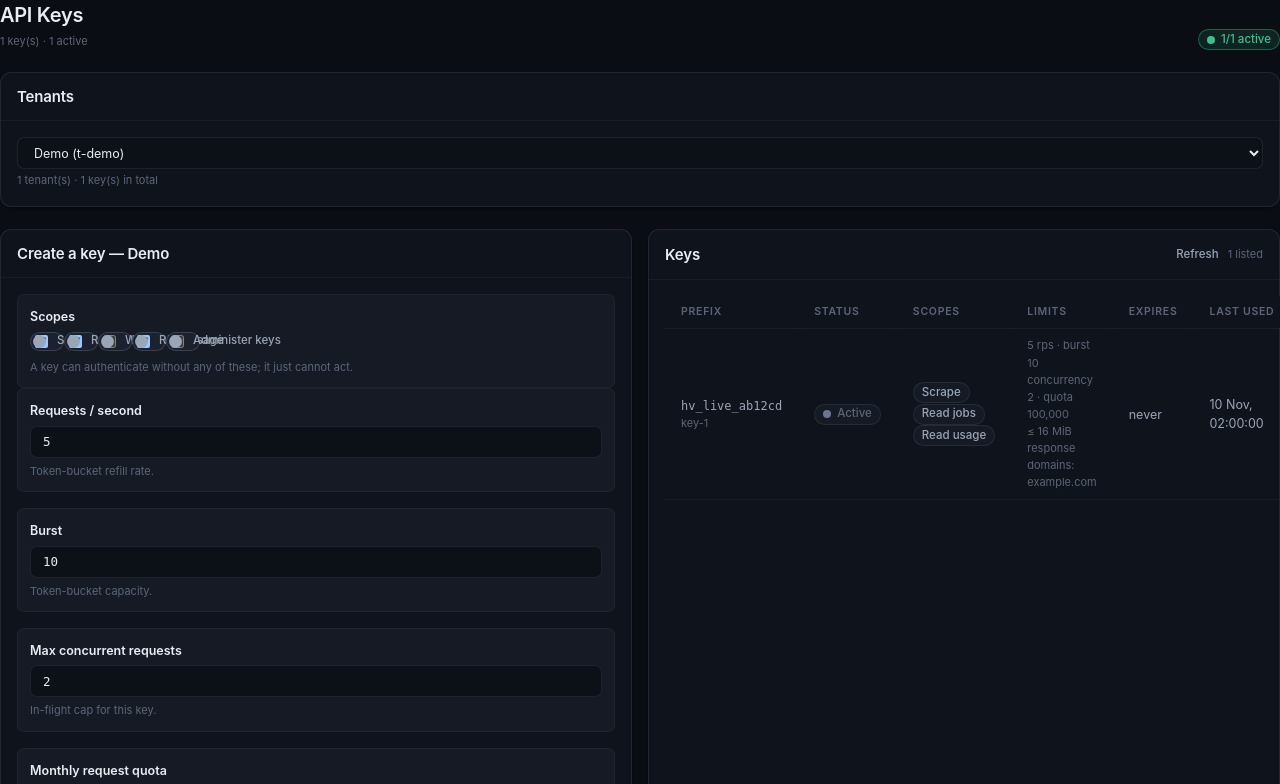
Scenario: ApiKeys page › creates a key with the scopes and limits the form collected
Check: the text "hv_live_ab12cd" is shown, box [681,399,782,413]
Click the checkbox labelled "Write jobs" at (110, 341), box [103,335,116,348]
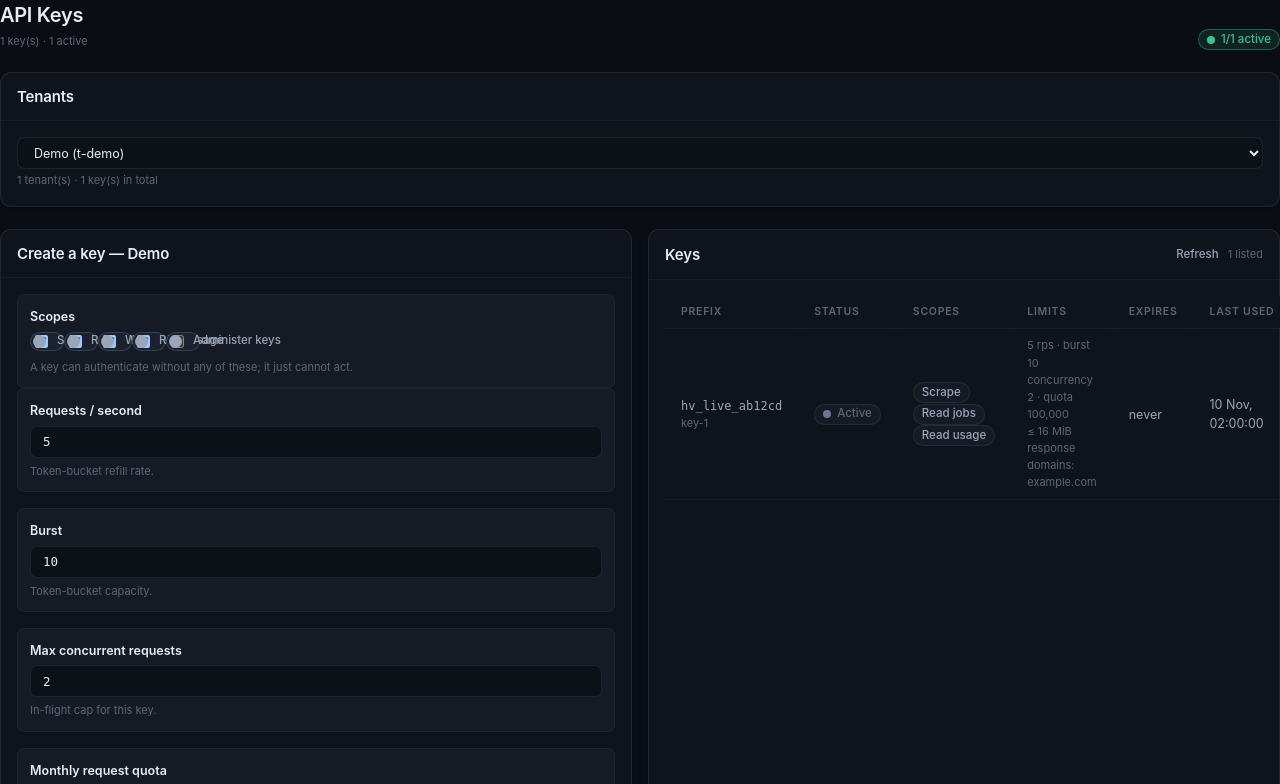
Click the checkbox labelled "Read usage" at (144, 341), box [137,335,150,348]
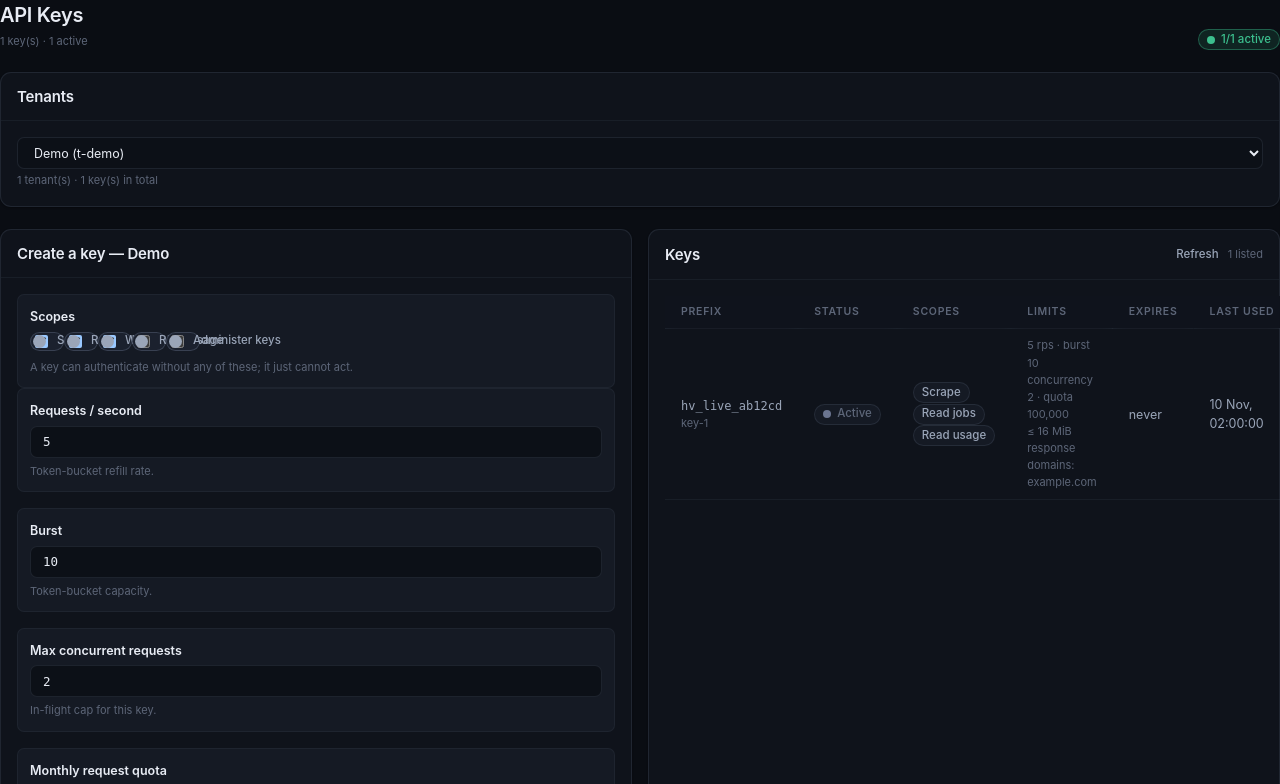
Replace the text in the field below "Requests / second" with "12.5" at (316, 442), box [30,426,602,458]
(page scrolled)
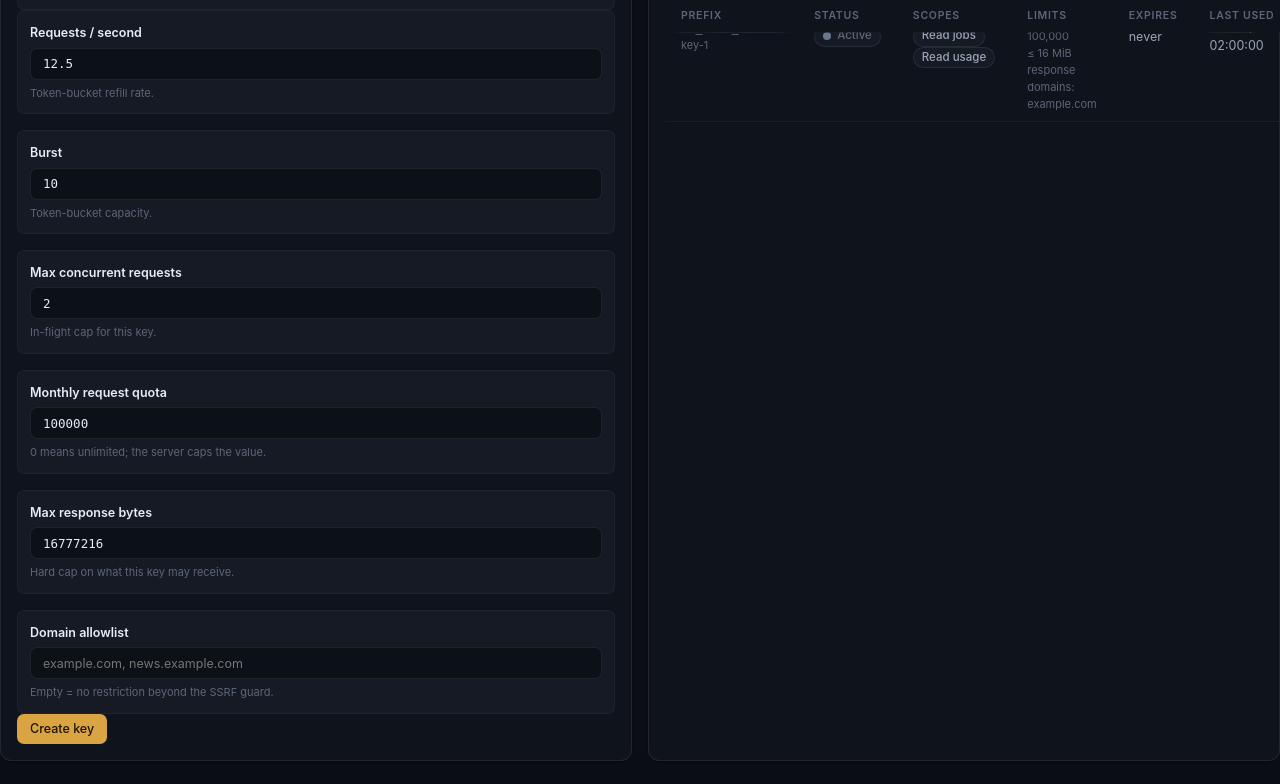
Click the button "Create key" at (62, 728), box [17,714,107,744]
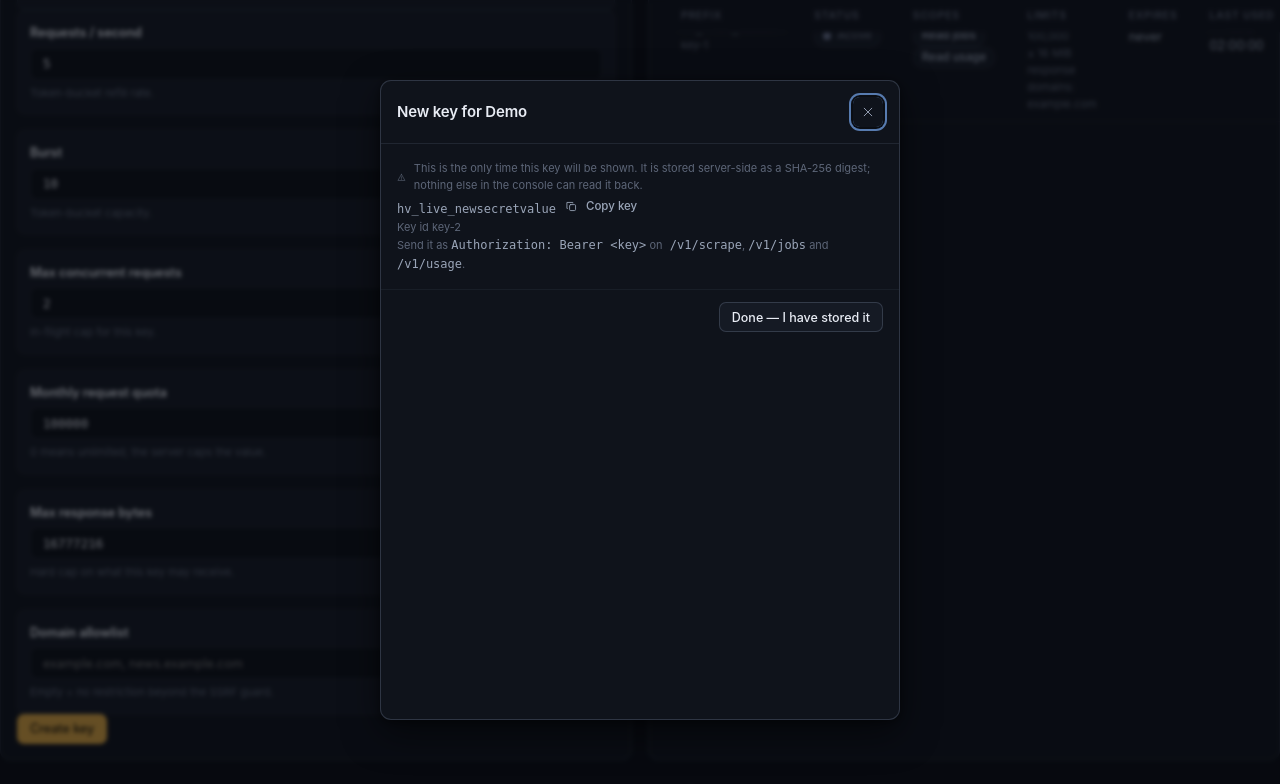
Check: the dialog shows "hv_live_newsecretvalue", box [397,202,556,216]
